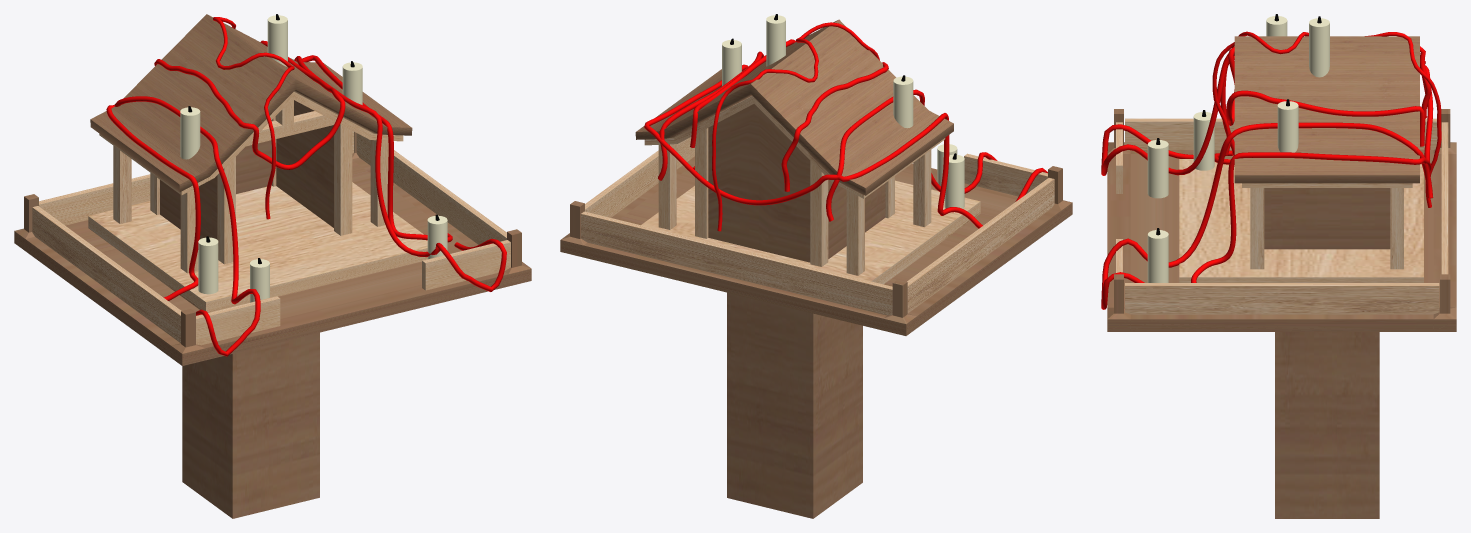
Rendered from Sajoa.fbx.
3 views of the same model, side by side, from view 1: azimuth 30°, elevation 25°; view 2: azimuth 150°, elevation 25°; view 3: azimuth 270°, elevation 25° (orthographic). The views are drawn at different scales.
Parts seen in each view (by area): view 1: Sajoa; view 2: Sajoa; view 3: Sajoa.
Boxes of the visible parts, bbox=[...] form: Sajoa: bbox=[14, 14, 531, 518]; Sajoa: bbox=[560, 14, 1072, 518]; Sajoa: bbox=[1101, 14, 1456, 518].
Bounding box in the file's own units: 3 × 3.88 × 2.54.
Materials: 6 (3 with a texture image).
